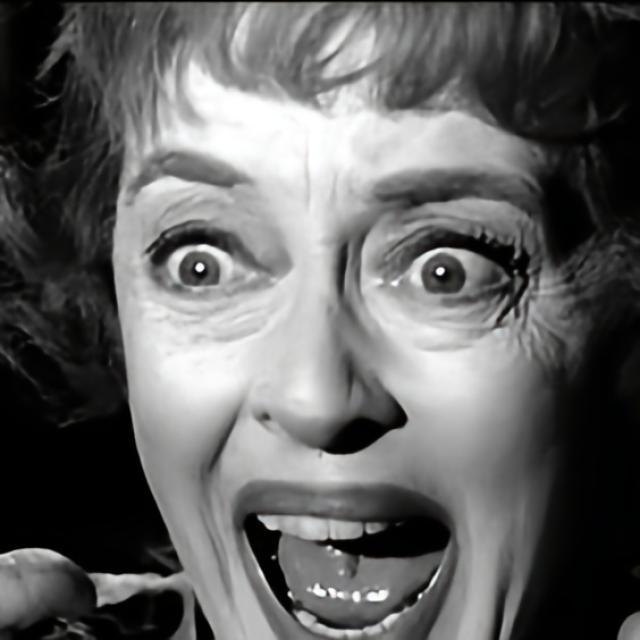fear: (115, 70, 582, 640)
